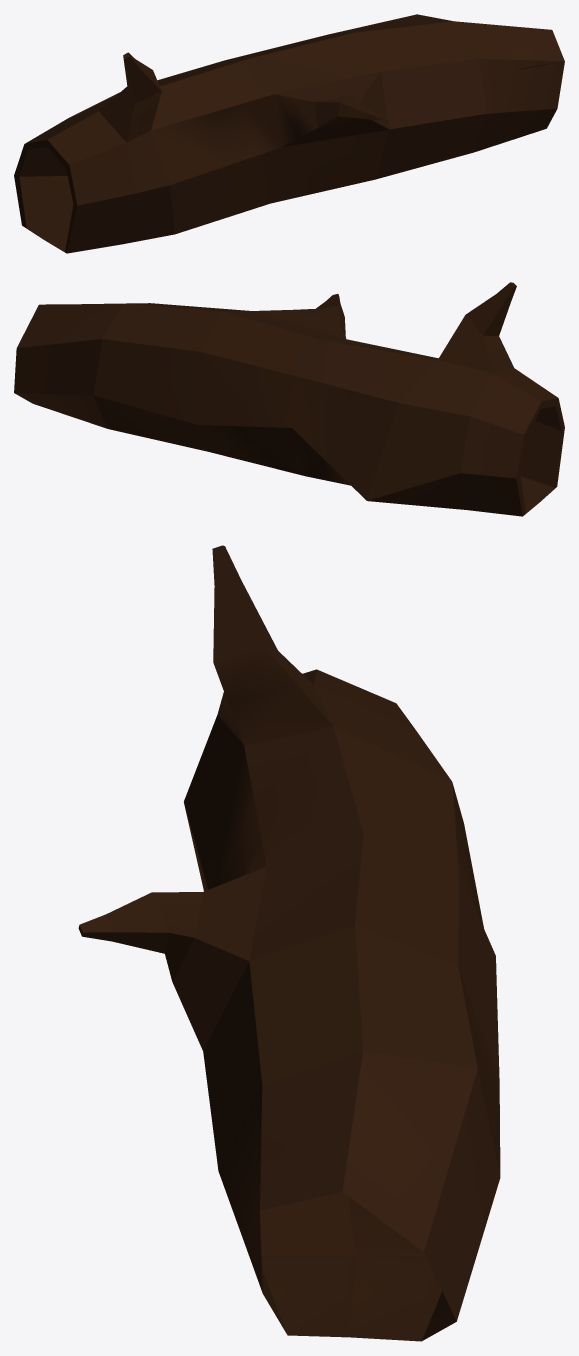
The model's file is WalkLog_EM.fbx.
3 renders of one model, top to bottom at view 1: azimuth 30°, elevation 25°; view 2: azimuth 150°, elevation 25°; view 3: azimuth 270°, elevation 25°, orthographic. The views are drawn at different scales.
Parts seen in each view (by area): view 1: WalkLog_EM; view 2: WalkLog_EM; view 3: WalkLog_EM.
Boxes of the visible parts, x1,y1,x2,y2 form: WalkLog_EM: [14, 14, 564, 253]; WalkLog_EM: [14, 282, 564, 516]; WalkLog_EM: [78, 545, 500, 1341].
Bounding box in the file's own units: 637 × 230 × 232.
